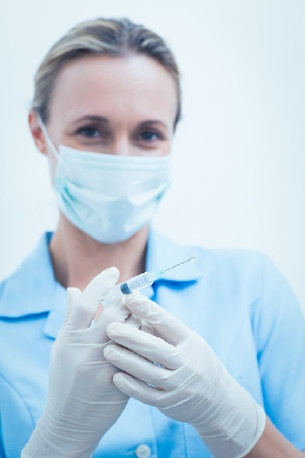Mask: (44, 109, 177, 240)
